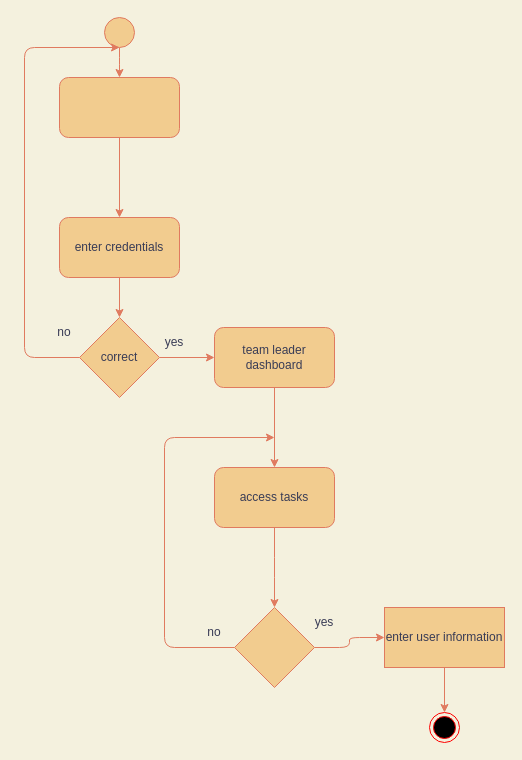
Image size: 522x760. Some labels were removed from this diagram. Here are the shapes that lost their labels. From the top down, the centre of each, then its label:
At pixel 119 107: "login page".
At pixel 274 647: "create task".
